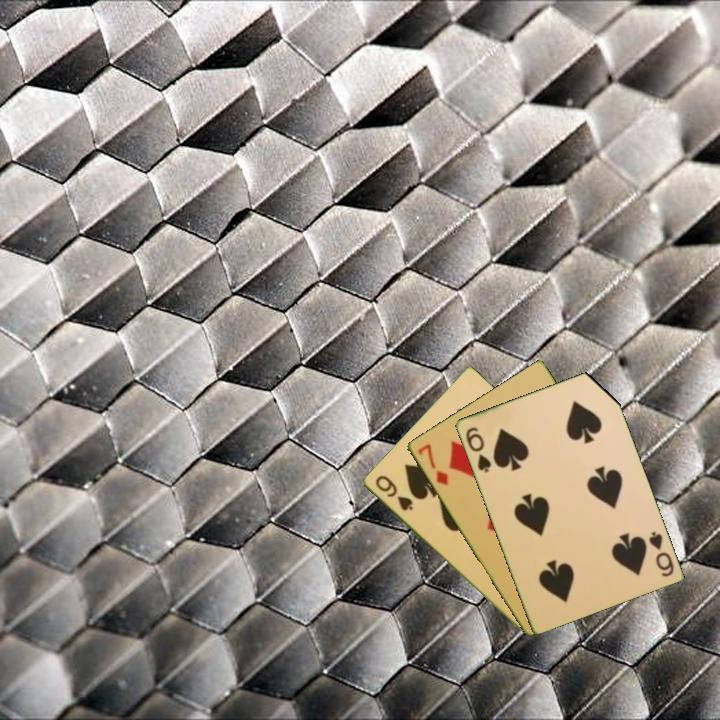6s: (462, 423, 494, 475), (645, 528, 677, 580)
7d: (413, 440, 451, 488)
9s: (371, 472, 416, 514)
